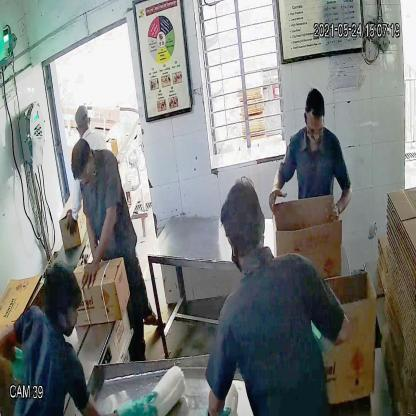goggles: (302, 120, 327, 139)
